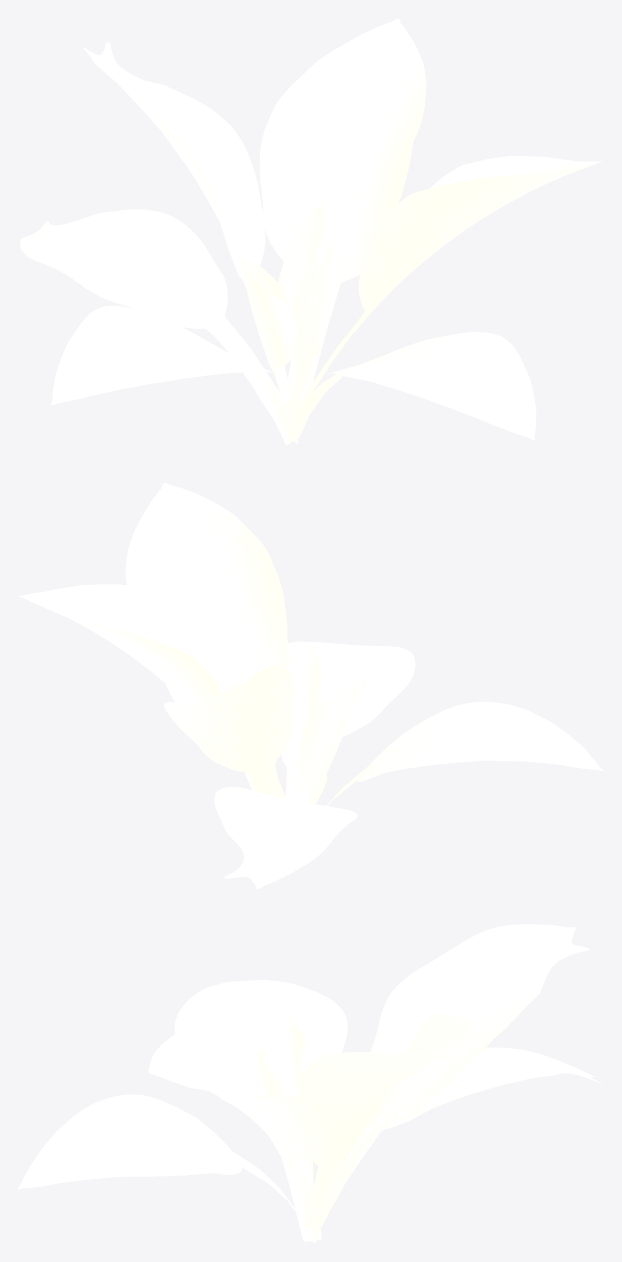
3 views of the same model, one above another, from view 1: azimuth 30°, elevation 25°; view 2: azimuth 150°, elevation 25°; view 3: azimuth 270°, elevation 25° (orthographic). The views are drawn at different scales.
Visible parts, largest first — view 1: SM_DR_Sm_Plant_01_LOD0; view 2: SM_DR_Sm_Plant_01_LOD0; view 3: SM_DR_Sm_Plant_01_LOD0.
Boxes of the visible parts, x1=… form: SM_DR_Sm_Plant_01_LOD0: x1=20, y1=19, x2=602, y2=445; SM_DR_Sm_Plant_01_LOD0: x1=19, y1=483, x2=602, y2=888; SM_DR_Sm_Plant_01_LOD0: x1=18, y1=924, x2=602, y2=1243.
Size of the model in its own units: 1.33 by 0.7758 by 1.43.
1 material, 1 textured.
